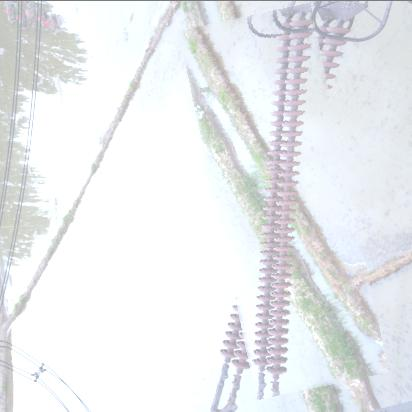insulator: (198, 7, 371, 395)
